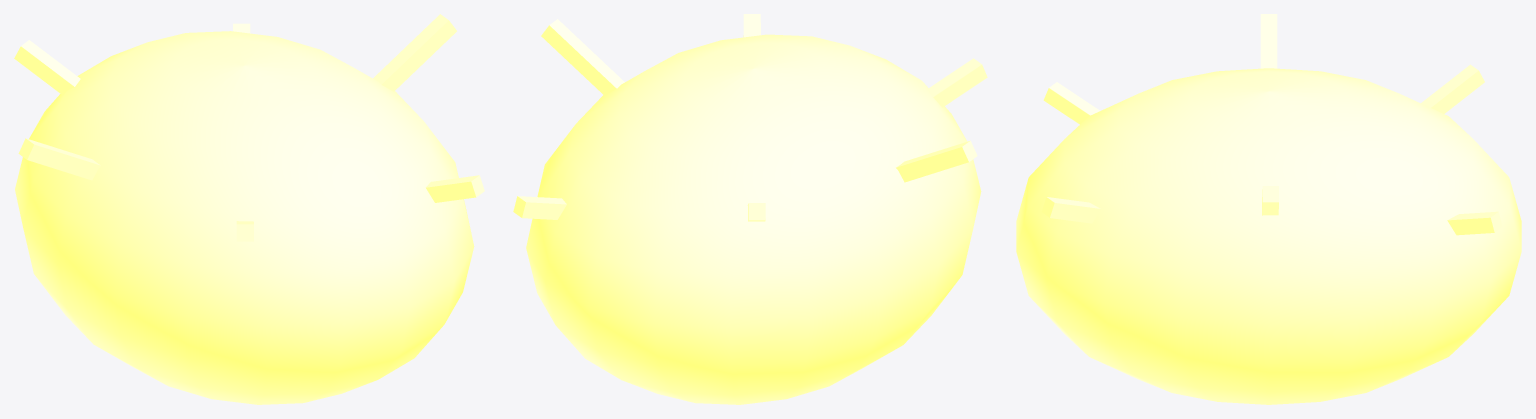
The model's file is fruit-watermelon-shocked.gltf.
3 renders of one model, left to right at view 1: azimuth 30°, elevation 25°; view 2: azimuth 150°, elevation 25°; view 3: azimuth 270°, elevation 25°, orthographic. The views are drawn at different scales.
Size of the model in its own units: 1.27 by 0.858 by 1.35.
